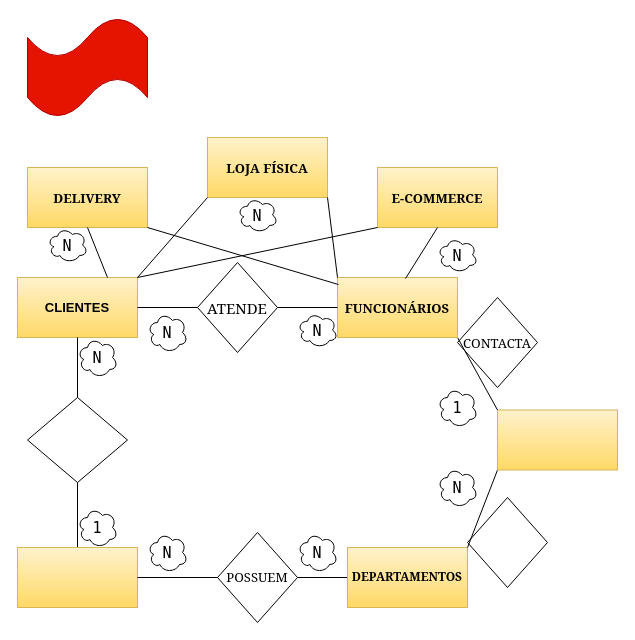
Some shapes in this 635 by 640 pixel diagram are drawn without their labels. The centre of each missing label's shape, as x and y in pixels:
COMPRAM: point 77,439
FORNECEDOR: point 557,439
MERCADO: point 87,67
POSSUI: point 507,542
PRODUTOS: point 77,577
